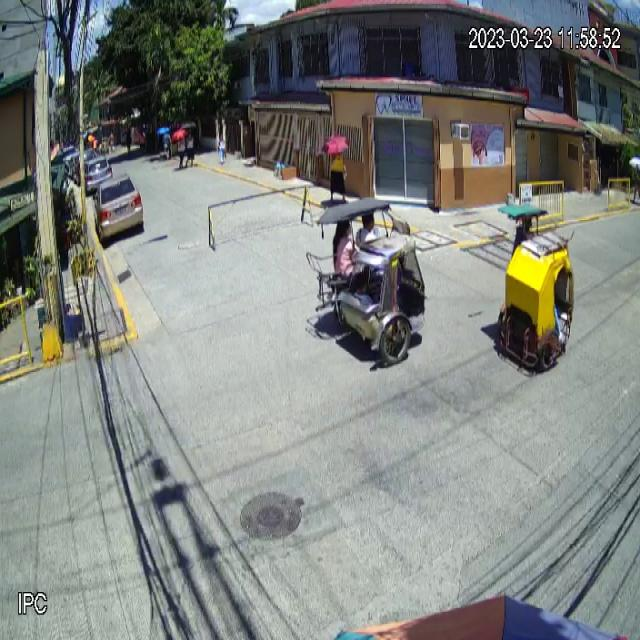Car: (93, 173, 144, 244)
Tricycle: (307, 196, 427, 362)
